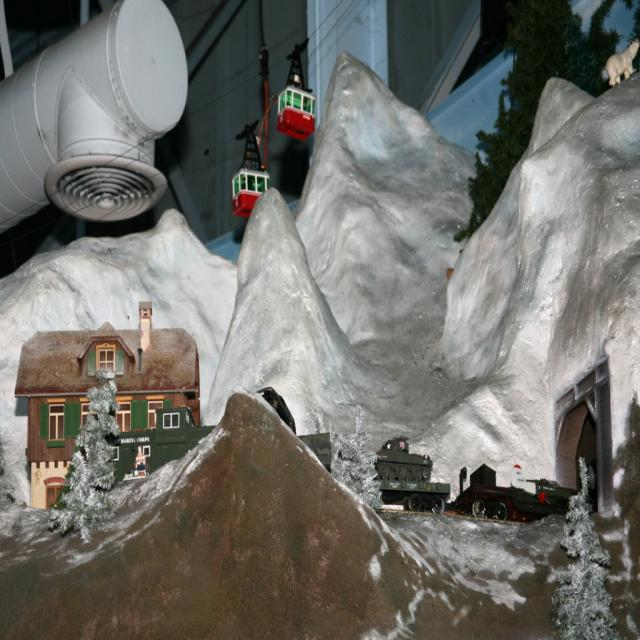tank: (372, 434, 430, 480)
